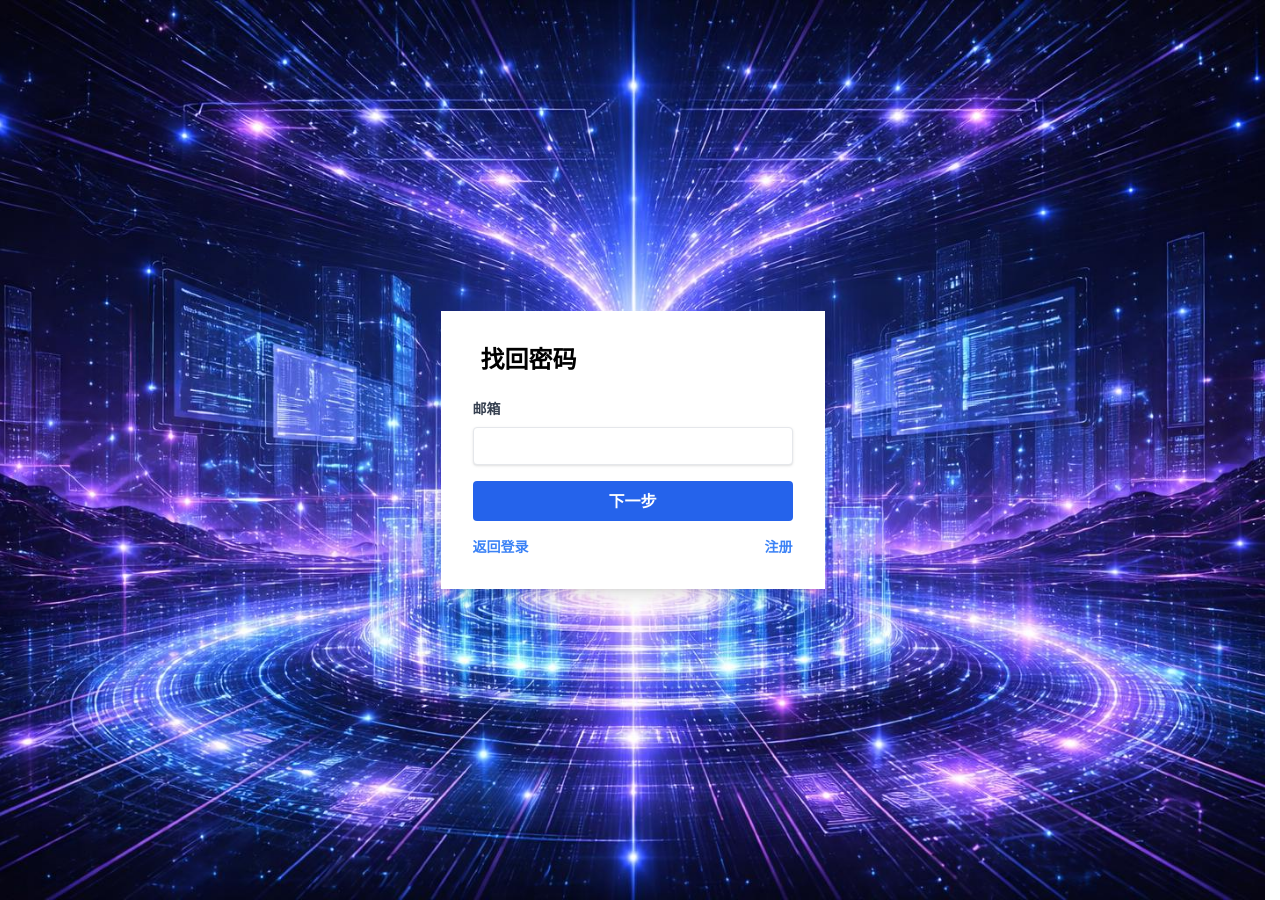
it: ForgotPassword › shows error when password reset is not allowed
This screenshot has width=1280, height=900.
In the field labelled "邮箱": coordinates (632, 446) [472,427,792,465], type "a@example.com"
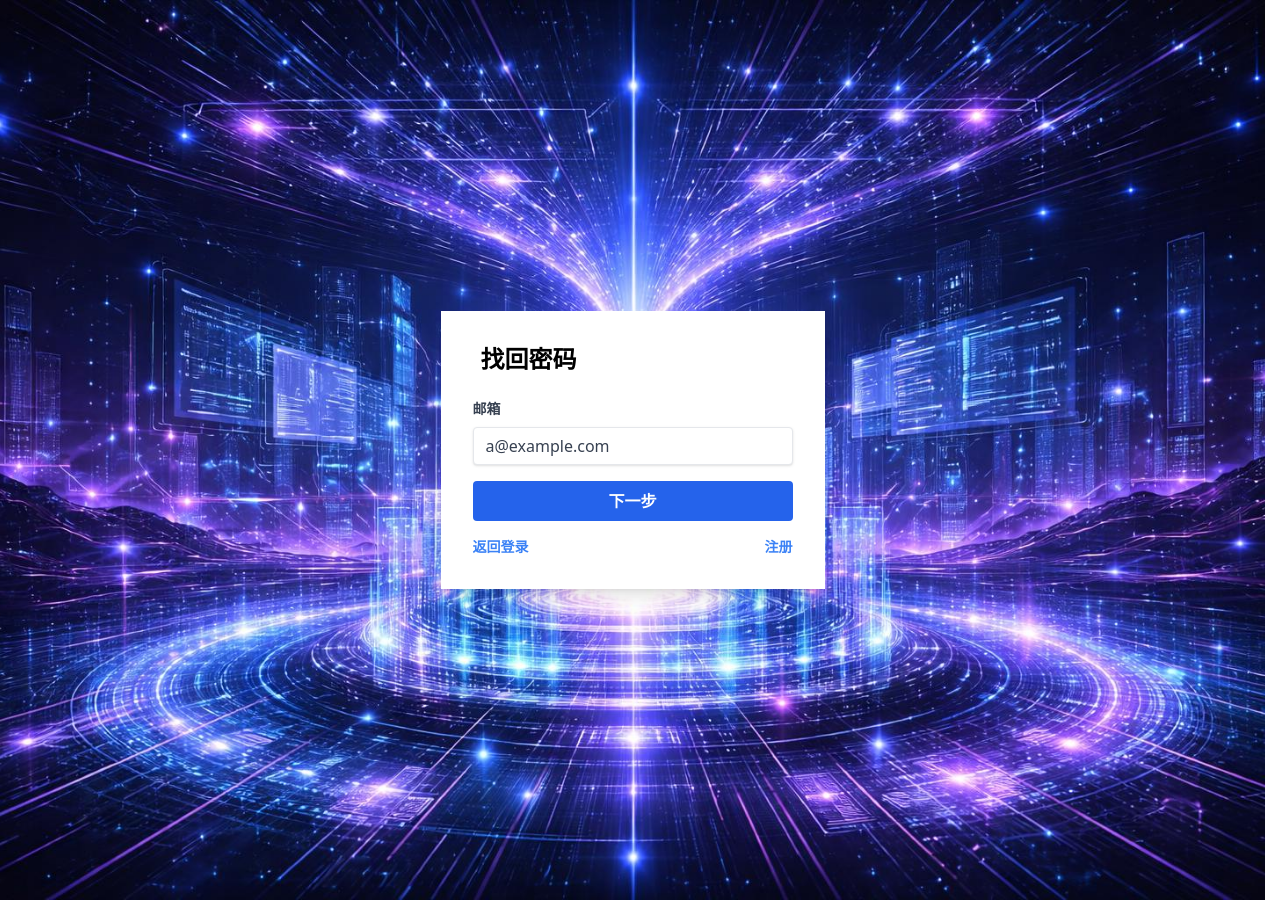
Click the button "下一步": coordinates (632, 501) [472,481,792,521]
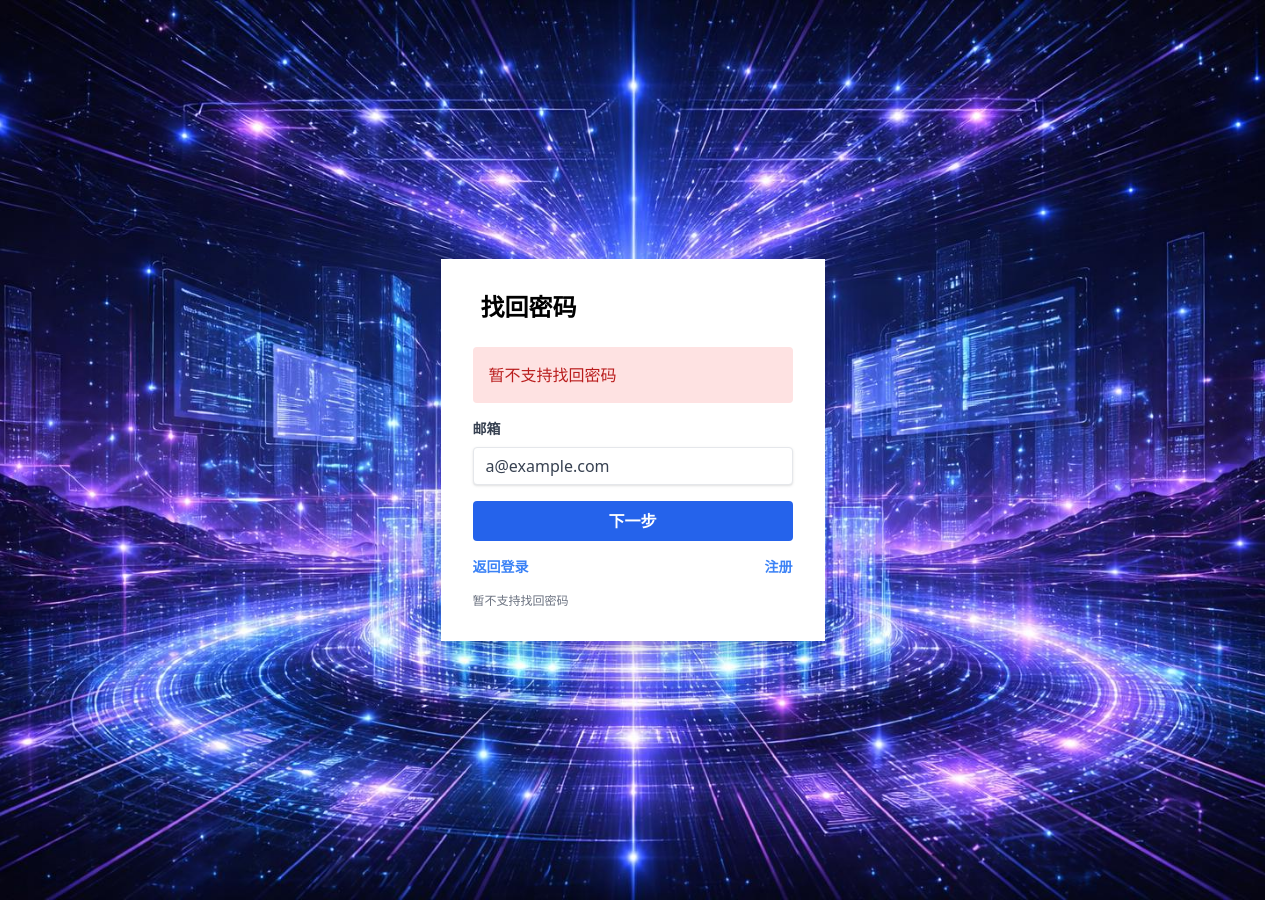
Expected: the button "下一步" is shown, [472,501,792,541]
Expected: the 1st text "暂不支持找回密码" is shown, [472,347,792,403]
